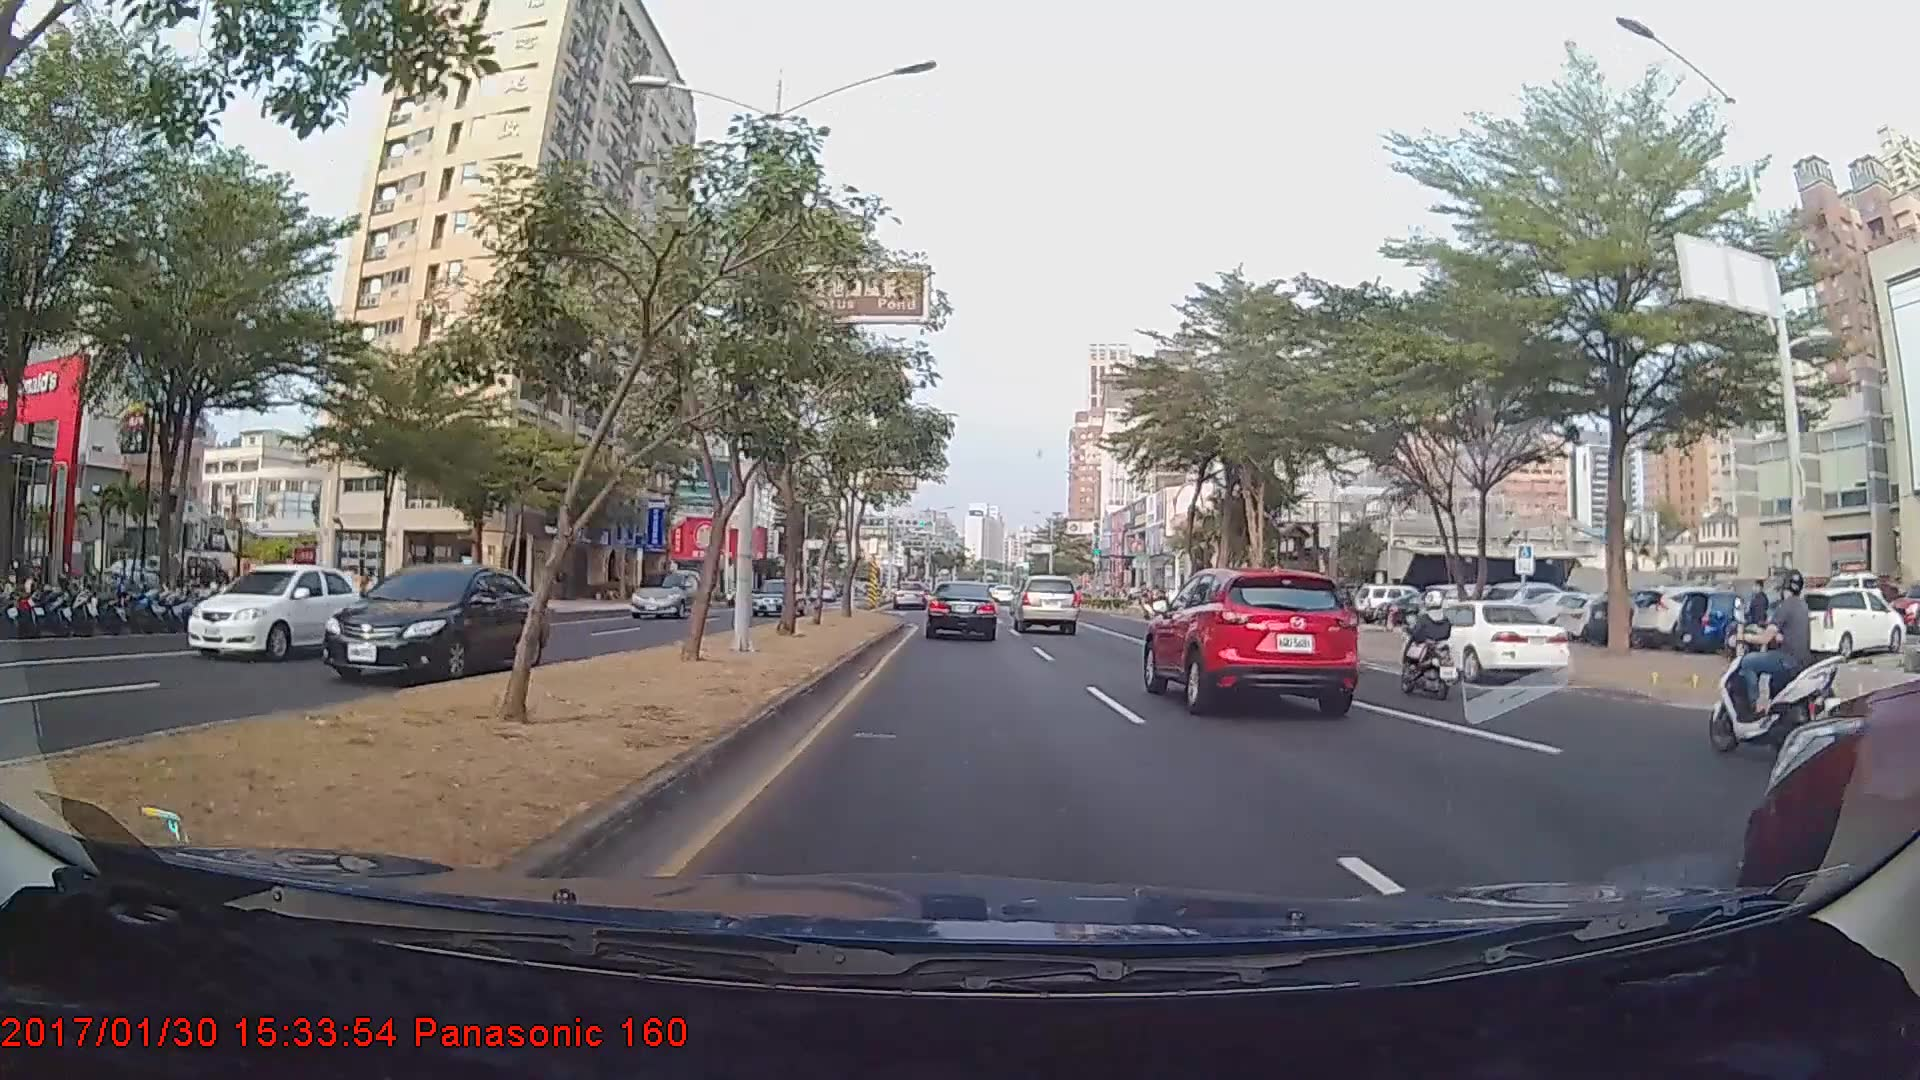pedestrian: (1745, 577, 1775, 663)
rider: (1710, 555, 1836, 761), (1389, 586, 1466, 703)
vehicle: (1145, 559, 1360, 715), (318, 561, 547, 683), (188, 563, 380, 661), (1399, 598, 1572, 684), (1784, 584, 1904, 662), (925, 579, 999, 641), (627, 566, 706, 618), (1012, 573, 1079, 634), (752, 579, 803, 620), (892, 581, 928, 611)
